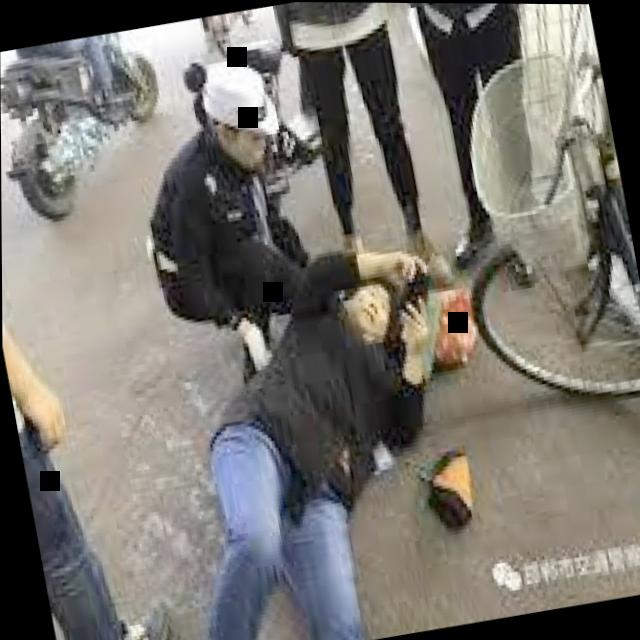Fall-Detected: (67, 214, 496, 640)
